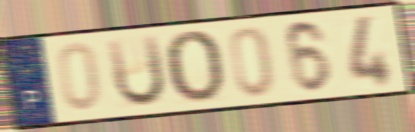0: (227, 23, 278, 100), (55, 40, 104, 116)
4: (346, 12, 395, 90)
6: (284, 18, 334, 95)
O: (162, 28, 227, 107)
U: (103, 32, 169, 111)
